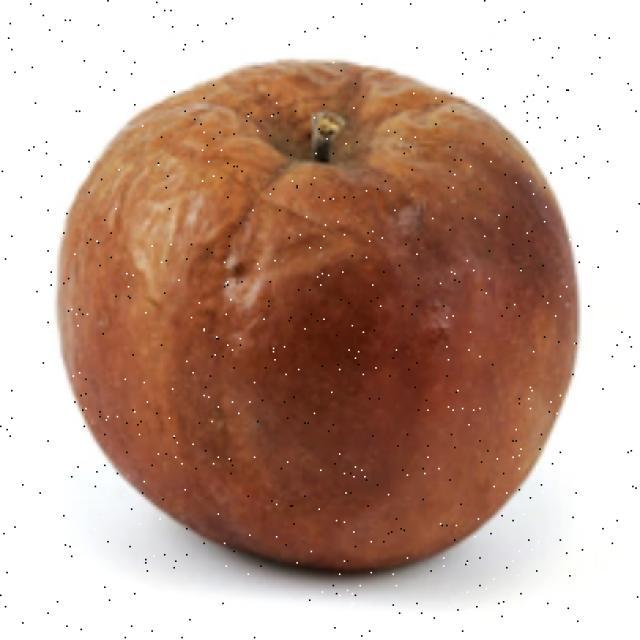Rotten: (88, 70, 575, 575)
